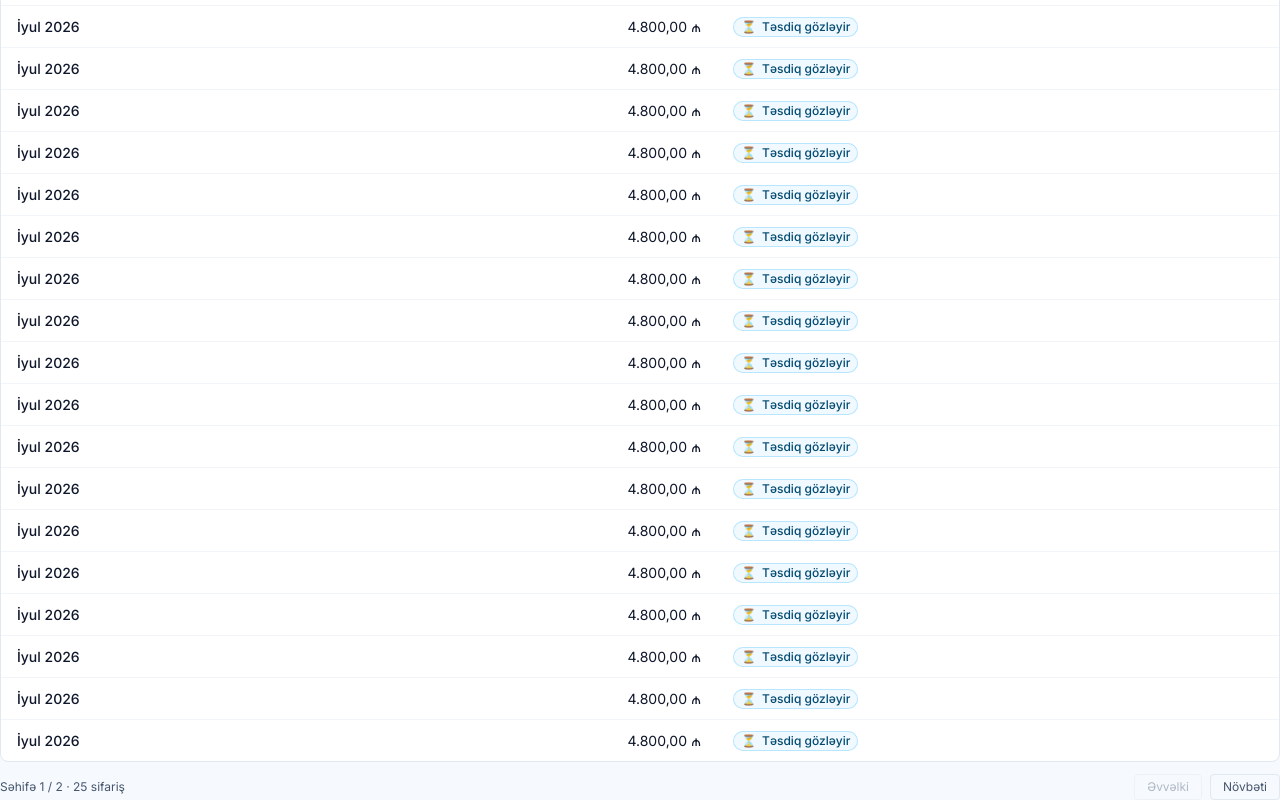
Test case: one link per period row, and no «Müqayisə et» › has none on the second page either
This screenshot has width=1280, height=800.
(page scrolled)
What coordinates should you click on to do the following:
click the button "Növbəti"
I would click on:
 (1245, 787)
Its box is 1210,774 -> 1279,799.
(page scrolled)
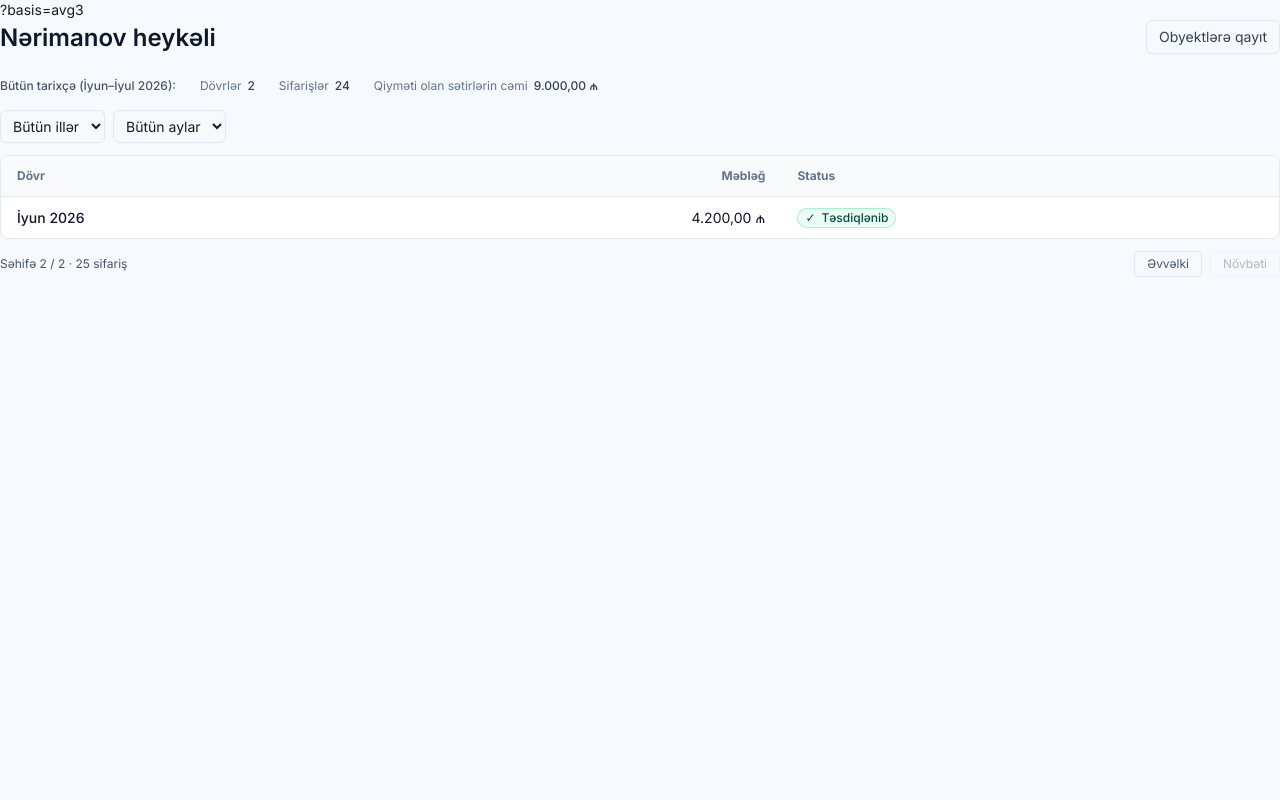
Result: the text "Səhifə 2 / 2 · 25 sifariş" is shown at 0,256 -> 127,272
Result: the links read "Obyektlərə qayıt", in this order at 1146,20 -> 1279,54
